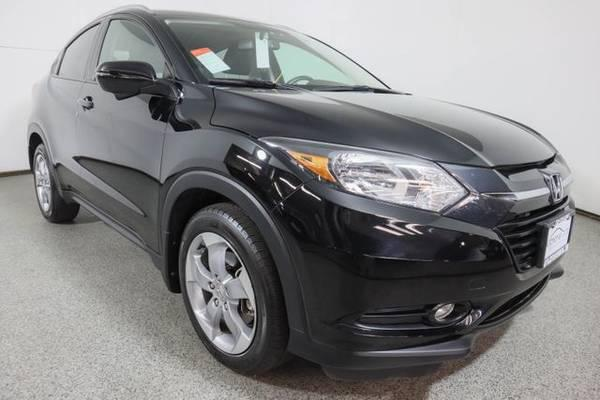Front_Bumper: (258, 178, 562, 372)
Front_Fender: (160, 85, 304, 247)
Front_Right_Door: (77, 80, 171, 261)
Front_Right_Window: (90, 19, 178, 89)
Front_Windshield: (157, 18, 391, 94)
Grille: (442, 144, 578, 266)
Hood: (213, 87, 562, 165)
Rear_Right_Door: (28, 75, 90, 197)
Rear_Right_Window: (52, 19, 103, 78)
Right_Headlight: (263, 135, 474, 211)
Roof: (50, 8, 280, 79)
Wheel: (168, 196, 279, 369), (29, 146, 78, 226)
